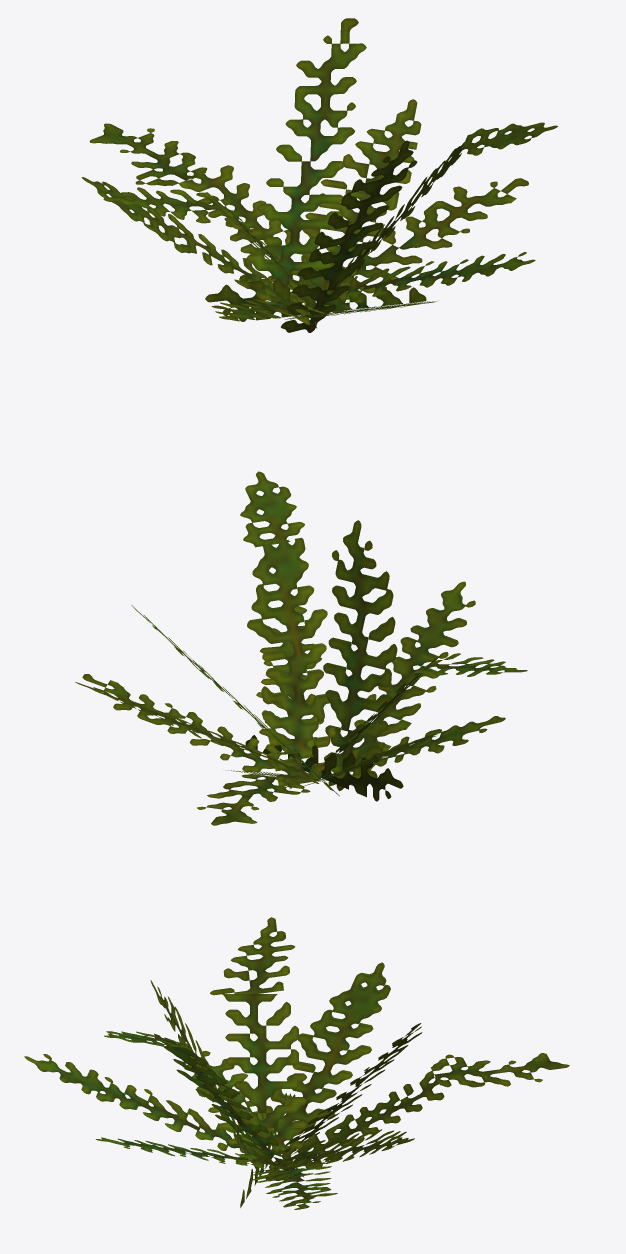
Rendered from fern_2.obj.
The picture shows the model from 3 angles, top to bottom: view 1: azimuth 30°, elevation 25°; view 2: azimuth 150°, elevation 25°; view 3: azimuth 270°, elevation 25°; orthographic projection. The views are drawn at different scales.
Visible parts, largest first — view 1: cube; view 2: cube; view 3: cube.
Boxes of the visible parts, x1,y1,x2,y2 form: cube: (81, 18, 557, 332); cube: (75, 471, 527, 825); cube: (24, 917, 569, 1209).
Size of the model in its own units: 2.11 by 1.02 by 2.28.
